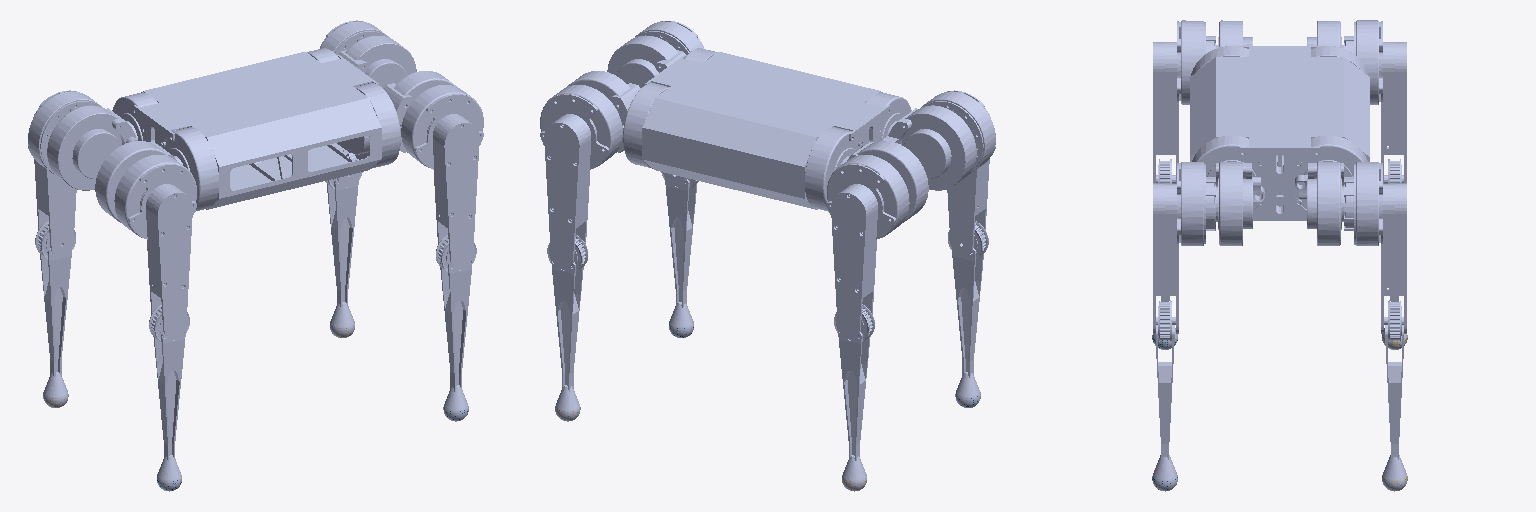
URDF robot description (Paws):
<?xml version="1.0" encoding="utf-8"?>
<!-- This URDF was automatically created by SolidWorks to URDF Exporter! Originally created by [author] ([email redacted]) 
     Commit Version: 1.6.0-4-g7f85cfe  Build Version: 1.6.7995.38578
     For more information, please see http://wiki.ros.org/sw_urdf_exporter -->
<robot name="Paws">
  <link name="base_link">
    <inertial>
      <origin
        xyz="0.0 0.0 0.0"
        rpy="0 0 0" />
      <mass
        value="8" />
      <inertia ixx="0.01801375" ixy="0" ixz="0.000424826" 
                iyy="0.052344195" iyz="0" izz="0.063719013"/>
    </inertial>
    <visual>
      <origin
        xyz="0 0 0"
        rpy="0 0 0" />
      <geometry>
        <mesh
          filename="package://PawsURDF/meshes/base_link.STL" />
      </geometry>
      <material
        name="">
        <color
          rgba="0.79216 0.81961 0.93333 1" />
      </material>
    </visual>
    <collision>
      <origin
        xyz="0 0 0"
        rpy="0 0 0" />
      <geometry>
        <mesh
          filename="package://PawsURDF/meshes/base_link.STL" />
      </geometry>
    </collision>
  </link>

<!--!!!!!!!!!!!!!!!!!! Front Right Leg !!!!!!!!!!!!!!!!!!!!!!!!!!-->
  <link name="FR_HIP">
    <inertial>
      <origin
        xyz="0.051126 0.0015613 -2.8843E-05"
        rpy="0 0 0" />
      <mass
        value="0.7" />
      <inertia ixx="0.000815672" ixy="-0.000001753" ixz="0.000000117"
                iyy="0.0004467" iyz="-0.00000015" izz="0.000526032"/>
    </inertial>
    <visual>
      <origin
        xyz="0 0 0"
        rpy="0 0 0" />
      <geometry>
        <mesh
          filename="package://PawsURDF/meshes/FR_HIP.STL" />
      </geometry>
      <material
        name="">
        <color
          rgba="0.79216 0.81961 0.93333 1" />
      </material>
    </visual>
    <collision>
      <origin
        xyz="0 0 0"
        rpy="0 0 0" />
      <geometry>
        <mesh
          filename="package://PawsURDF/meshes/FR_HIP.STL" />
      </geometry>
    </collision>
  </link>
  <joint name="FR_HIP_joint" type="continuous">
    <origin
      xyz="0.1337 -0.05599 0.005969"
      rpy="0 0 0" />
    <parent
      link="base_link" />
    <child
      link="FR_HIP" />
    <axis
      xyz="-1 0 0" />
  </joint>

  <link name="FR_KNEE">
    <inertial>
      <origin
        xyz="-4.9357E-05 -0.031336 -0.0089769"
        rpy="0 0 0" />
      <mass
        value="0.884" />
      <inertia ixx="0.00068084" ixy="-0.000257679" ixz="0.000003178"
                iyy="0.001766531" iyz="0.000003516" izz="0.001619267"/>
    </inertial>
    <visual>
      <origin
        xyz="0 0 0"
        rpy="0 0 0" />
      <geometry>
        <mesh
          filename="package://PawsURDF/meshes/FR_KNEE.STL" />
      </geometry>
      <material
        name="">
        <color
          rgba="0.79216 0.81961 0.93333 1" />
      </material>
    </visual>
    <collision>
      <origin
        xyz="0 0 0"
        rpy="0 0 0" />
      <geometry>
        <mesh
          filename="package://PawsURDF/meshes/FR_KNEE.STL" />
      </geometry>
    </collision>
  </link>
  <joint name="FR_KNEE_joint"
    type="continuous">
    <origin
      xyz="0.055 -0.017 0"
      rpy="0 0 0" />
    <parent
      link="FR_HIP" />
    <child
      link="FR_KNEE" />
    <axis
      xyz="0 -1 0" />
  </joint>

  <link name="FR_FEET">
    <inertial>
      <origin
        xyz="-3.6717E-07 1.5903E-08 -0.088089"
        rpy="0 0 0" />
      <mass
        value="0.063" />
      <inertia ixx="0.000719905" ixy="0" ixz="0.0" iyy="0.000726173" iyz="0" izz="0.000014957"/>
    </inertial>
    <visual>
      <origin
        xyz="0 0 0"
        rpy="0 0 0" />
      <geometry>
        <mesh
          filename="package://PawsURDF/meshes/FR_FEET.STL" />
      </geometry>
      <material
        name="">
        <color
          rgba="0.79216 0.81961 0.93333 1" />
      </material>
    </visual>
    <collision>
      <origin
        xyz="0 0 0"
        rpy="0 0 0" />
      <geometry>
        <mesh
          filename="package://PawsURDF/meshes/FR_FEET.STL" />
      </geometry>
    </collision>
  </link>
  <joint name="FR_FEET_joint"
    type="continuous">
    <origin
      xyz="0 -0.0605 -0.15"
      rpy="0 0 0" />
    <parent
      link="FR_KNEE" />
    <child
      link="FR_FEET" />
    <axis
      xyz="0 -1 0" />
  </joint>

  <link name="FR_TOE">
    <contact>
      <friction_anchor/>
      <stiffness value="30000.0"/>
      <damping value="1000.0"/>
      <spinning_friction value="0.3"/>
      <lateral_friction value="3.0"/>
    </contact>
    <visual>
      <origin rpy="0 0 0" xyz="0 0 0"/>
      <geometry>
        <sphere radius="0.015"/>
      </geometry>
      <material name="darkgray"/>
    </visual>
    <collision>
      <origin rpy="0 0 0" xyz="0 0 0"/>
      <geometry>
        <sphere radius="0.015"/>
      </geometry>
    </collision>
    <inertial>
      <mass value="0.15"/>
      <inertia ixx="0.000025" ixy="0" ixz="0" iyy="0.000025" iyz="0" izz="0.000025"/>
    </inertial>
  </link>
  <joint name="FR_TOE_joint" type="fixed">
    <parent link="FR_FEET"/>
    <child link="FR_TOE"/>
    <origin xyz="0 0 -0.202"/>
    <dynamics damping="0.0" friction="1"/>
  </joint>
<!--!!!!!!!!!!!!!!!!!! Front Left Leg !!!!!!!!!!!!!!!!!!!!!!!!!!-->
  <link name="FL_HIP">
    <inertial>
      <origin
        xyz="0.051126 -0.0015613 2.8843E-05"
        rpy="0 0 0" />
      <mass
        value="0.7" />
      <inertia ixx="0.000815672" ixy="-0.000001753" ixz="0.000000117"
                iyy="0.0004467" iyz="-0.00000015" izz="0.000526032"/>
    </inertial>
    <visual>
      <origin
        xyz="0 0 0"
        rpy="0 0 0" />
      <geometry>
        <mesh
          filename="package://PawsURDF/meshes/FL_HIP.STL" />
      </geometry>
      <material
        name="">
        <color
          rgba="0.79216 0.81961 0.93333 1" />
      </material>
    </visual>
    <collision>
      <origin
        xyz="0 0 0"
        rpy="0 0 0" />
      <geometry>
        <mesh
          filename="package://PawsURDF/meshes/FL_HIP.STL" />
      </geometry>
    </collision>
  </link>
  <joint name="FL_HIP_joint"
    type="continuous">
    <origin
      xyz="0.1337 0.05601 0.005969"
      rpy="0 0 0" />
    <parent
      link="base_link" />
    <child
      link="FL_HIP" />
    <axis
      xyz="-1 0 0" />
  </joint>

  <link name="FL_KNEE">
    <inertial>
      <origin
        xyz="4.9357E-05 0.031336 -0.0089769"
        rpy="0 0 0" />
      <mass
        value="0.884" />
      <inertia ixx="0.00068084" ixy="-0.000257679" ixz="0.000003178"
                iyy="0.001766531" iyz="0.000003516" izz="0.001619267"/>
    </inertial>
    <visual>
      <origin
        xyz="0 0 0"
        rpy="0 0 0" />
      <geometry>
        <mesh
          filename="package://PawsURDF/meshes/FL_KNEE.STL" />
      </geometry>
      <material
        name="">
        <color
          rgba="0.79216 0.81961 0.93333 1" />
      </material>
    </visual>
    <collision>
      <origin
        xyz="0 0 0"
        rpy="0 0 0" />
      <geometry>
        <mesh
          filename="package://PawsURDF/meshes/FL_KNEE.STL" />
      </geometry>
    </collision>
  </link>
  <joint name="FL_KNEE_joint"
    type="continuous">
    <origin
      xyz="0.055 0.017 0"
      rpy="0 0 0" />
    <parent
      link="FL_HIP" />
    <child
      link="FL_KNEE" />
    <axis
      xyz="0 1 0" />
  </joint>

  <link name="FL_FEET">
    <inertial>
      <origin
        xyz="-3.6717E-07 1.5904E-08 -0.088089"
        rpy="0 0 0" />
      <mass
        value="0.063" />
      <inertia ixx="0.000719905" ixy="0" ixz="0.0" iyy="0.000726173" iyz="0" izz="0.000014957"/>
    </inertial>
    <visual>
      <origin
        xyz="0 0 0"
        rpy="0 0 0" />
      <geometry>
        <mesh
          filename="package://PawsURDF/meshes/FL_FEET.STL" />
      </geometry>
      <material
        name="">
        <color
          rgba="0.79216 0.81961 0.93333 1" />
      </material>
    </visual>
    <collision>
      <origin
        xyz="0 0 0"
        rpy="0 0 0" />
      <geometry>
        <mesh
          filename="package://PawsURDF/meshes/FL_FEET.STL" />
      </geometry>
    </collision>
  </link>
  <joint name="FL_FEET_joint"
    type="continuous">
    <origin
      xyz="0 0.0605 -0.15"
      rpy="0 0 0" />
    <parent
      link="FL_KNEE" />
    <child
      link="FL_FEET" />
    <axis
      xyz="0 -1 0" />
  </joint>

  <link name="FL_TOE">
    <contact>
      <friction_anchor/>
      <stiffness value="30000.0"/>
      <damping value="1000.0"/>
      <spinning_friction value="0.3"/>
      <lateral_friction value="3.0"/>
    </contact>
    <visual>
      <origin rpy="0 0 0" xyz="0 0 0"/>
      <geometry>
        <sphere radius="0.015"/>
      </geometry>
      <material name="darkgray"/>
    </visual>
    <collision>
      <origin rpy="0 0 0" xyz="0 0 0"/>
      <geometry>
        <sphere radius="0.015"/>
      </geometry>
    </collision>
    <inertial>
      <mass value="0.15"/>
      <inertia ixx="0.000025" ixy="0" ixz="0" iyy="0.000025" iyz="0" izz="0.000025"/>
    </inertial>
  </link>
  <joint name="FL_TOE_joint" type="fixed">
    <parent link="FL_FEET"/>
    <child link="FL_TOE"/>
    <origin xyz="0 0 -0.202"/>
    <dynamics damping="0.0" friction="1"/>
  </joint>

<!--!!!!!!!!!!!!!!!!!! Rear Right Leg !!!!!!!!!!!!!!!!!!!!!!!!!!-->
  <link name="RR_HIP">
    <inertial>
      <origin
        xyz="-0.051126 0.0015613 2.8843E-05"
        rpy="0 0 0" />
      <mass
        value="0.7" />
      <inertia ixx="0.000815672" ixy="-0.000001753" ixz="0.000000117"
                iyy="0.0004467" iyz="-0.00000015" izz="0.000526032"/>
    </inertial>
    <visual>
      <origin
        xyz="0 0 0"
        rpy="0 0 0" />
      <geometry>
        <mesh
          filename="package://PawsURDF/meshes/RR_HIP.STL" />
      </geometry>
      <material
        name="">
        <color
          rgba="0.79216 0.81961 0.93333 1" />
      </material>
    </visual>
    <collision>
      <origin
        xyz="0 0 0"
        rpy="0 0 0" />
      <geometry>
        <mesh
          filename="package://PawsURDF/meshes/RR_HIP.STL" />
      </geometry>
    </collision>
  </link>
  <joint name="RR_HIP_joint"
    type="continuous">
    <origin
      xyz="-0.1453 -0.05599 0.005969"
      rpy="0 0 0" />
    <parent
      link="base_link" />
    <child
      link="RR_HIP" />
    <axis
      xyz="1 0 0" />
  </joint>

  <link name="RR_KNEE">
    <inertial>
      <origin
        xyz="-4.9357E-05 -0.031336 -0.0089769"
        rpy="0 0 0" />
      <mass
        value="0.884" />
      <inertia ixx="0.00068084" ixy="-0.000257679" ixz="0.000003178"
                iyy="0.001766531" iyz="0.000003516" izz="0.001619267"/>
    </inertial>
    <visual>
      <origin
        xyz="0 0 0"
        rpy="0 0 0" />
      <geometry>
        <mesh
          filename="package://PawsURDF/meshes/RR_KNEE.STL" />
      </geometry>
      <material
        name="">
        <color
          rgba="0.79216 0.81961 0.93333 1" />
      </material>
    </visual>
    <collision>
      <origin
        xyz="0 0 0"
        rpy="0 0 0" />
      <geometry>
        <mesh
          filename="package://PawsURDF/meshes/RR_KNEE.STL" />
      </geometry>
    </collision>
  </link>
  <joint name="RR_KNEE_joint"
    type="continuous">
    <origin
      xyz="-0.055 -0.017 0"
      rpy="0 0 0" />
    <parent
      link="RR_HIP" />
    <child
      link="RR_KNEE" />
    <axis
      xyz="0 -1 0" />
  </joint>

  <link name="RR_FEET">
    <inertial>
      <origin
        xyz="-3.6717E-07 1.5901E-08 -0.088089"
        rpy="0 0 0" />
      <mass
        value="0.063" />
      <inertia ixx="0.000719905" ixy="0" ixz="0.0" iyy="0.000726173" iyz="0" izz="0.000014957"/>
    </inertial>
    <visual>
      <origin
        xyz="0 0 0"
        rpy="0 0 0" />
      <geometry>
        <mesh
          filename="package://PawsURDF/meshes/RR_FEET.STL" />
      </geometry>
      <material
        name="">
        <color
          rgba="0.79216 0.81961 0.93333 1" />
      </material>
    </visual>
    <collision>
      <origin
        xyz="0 0 0"
        rpy="0 0 0" />
      <geometry>
        <mesh
          filename="package://PawsURDF/meshes/RR_FEET.STL" />
      </geometry>
    </collision>
  </link>
  <joint name="RR_FEET_joint"
    type="continuous">
    <origin
      xyz="0 -0.0605 -0.15"
      rpy="0 0 0" />
    <parent
      link="RR_KNEE" />
    <child
      link="RR_FEET" />
    <axis
      xyz="0 -1 0" />
  </joint>

  <link name="RR_TOE">
    <contact>
      <friction_anchor/>
      <stiffness value="30000.0"/>
      <damping value="1000.0"/>
      <spinning_friction value="0.3"/>
      <lateral_friction value="3.0"/>
    </contact>
    <visual>
      <origin rpy="0 0 0" xyz="0 0 0"/>
      <geometry>
        <sphere radius="0.015"/>
      </geometry>
      <material name="darkgray"/>
    </visual>
    <collision>
      <origin rpy="0 0 0" xyz="0 0 0"/>
      <geometry>
        <sphere radius="0.015"/>
      </geometry>
    </collision>
    <inertial>
      <mass value="0.15"/>
      <inertia ixx="0.000025" ixy="0" ixz="0" iyy="0.000025" iyz="0" izz="0.000025"/>
    </inertial>
  </link>
  <joint name="RR_TOE_joint" type="fixed">
    <parent link="RR_FEET"/>
    <child link="RR_TOE"/>
    <origin xyz="0 0 -0.202"/>
    <dynamics damping="0.0" friction="1"/>
  </joint>

<!--!!!!!!!!!!!!!!!!!! Rear Left Leg !!!!!!!!!!!!!!!!!!!!!!!!!!-->
  <link name="RL_HIP">
    <inertial>
      <origin
        xyz="-0.051126 -0.0015613 -2.8843E-05"
        rpy="0 0 0" />
      <mass
        value="0.7" />
      <inertia ixx="0.000815672" ixy="-0.000001753" ixz="0.000000117"
                iyy="0.0004467" iyz="-0.00000015" izz="0.000526032"/>
    </inertial>
    <visual>
      <origin
        xyz="0 0 0"
        rpy="0 0 0" />
      <geometry>
        <mesh
          filename="package://PawsURDF/meshes/RL_HIP.STL" />
      </geometry>
      <material
        name="">
        <color
          rgba="0.79216 0.81961 0.93333 1" />
      </material>
    </visual>
    <collision>
      <origin
        xyz="0 0 0"
        rpy="0 0 0" />
      <geometry>
        <mesh
          filename="package://PawsURDF/meshes/RL_HIP.STL" />
      </geometry>
    </collision>
  </link>
  <joint name="RL_HIP_joint"
    type="continuous">
    <origin
      xyz="-0.1453 0.05601 0.005969"
      rpy="0 0 0" />
    <parent
      link="base_link" />
    <child
      link="RL_HIP" />
    <axis
      xyz="1 0 0" />
  </joint>

  <link name="RL_KNEE">
    <inertial>
      <origin
        xyz="4.9357E-05 0.031336 -0.0089769"
        rpy="0 0 0" />
      <mass
        value="0.884" />
      <inertia ixx="0.00068084" ixy="-0.000257679" ixz="0.000003178"
                iyy="0.001766531" iyz="0.000003516" izz="0.001619267"/>
    </inertial>
    <visual>
      <origin
        xyz="0 0 0"
        rpy="0 0 0" />
      <geometry>
        <mesh
          filename="package://PawsURDF/meshes/RL_KNEE.STL" />
      </geometry>
      <material
        name="">
        <color
          rgba="0.79216 0.81961 0.93333 1" />
      </material>
    </visual>
    <collision>
      <origin
        xyz="0 0 0"
        rpy="0 0 0" />
      <geometry>
        <mesh
          filename="package://PawsURDF/meshes/RL_KNEE.STL" />
      </geometry>
    </collision>
  </link>
  <joint name="RL_KNEE_joint"
    type="continuous">
    <origin
      xyz="-0.055 0.017 0"
      rpy="0 0 0" />
    <parent
      link="RL_HIP" />
    <child
      link="RL_KNEE" />
    <axis
      xyz="0 1 0" />
  </joint>

  <link name="RL_FEET">
    <inertial>
      <origin
        xyz="-3.6717E-07 1.5904E-08 -0.088089"
        rpy="0 0 0" />
      <mass
        value="0.063" />
      <inertia ixx="0.000719905" ixy="0" ixz="0.0" iyy="0.000726173" iyz="0" izz="0.000014957"/>
    </inertial>
    <visual>
      <origin
        xyz="0 0 0"
        rpy="0 0 0" />
      <geometry>
        <mesh
          filename="package://PawsURDF/meshes/RL_FEET.STL" />
      </geometry>
      <material
        name="">
        <color
          rgba="0.79216 0.81961 0.93333 1" />
      </material>
    </visual>
    <collision>
      <origin
        xyz="0 0 0"
        rpy="0 0 0" />
      <geometry>
        <mesh
          filename="package://PawsURDF/meshes/RL_FEET.STL" />
      </geometry>
    </collision>
  </link>
  <joint name="RL_FEET_joint"
    type="continuous">
    <origin
      xyz="0 0.0605 -0.15"
      rpy="0 0 0" />
    <parent
      link="RL_KNEE" />
    <child
      link="RL_FEET" />
    <axis
      xyz="0 -1 0" />
  </joint>

  <link name="RL_TOE">
    <contact>
      <friction_anchor/>
      <stiffness value="30000.0"/>
      <damping value="1000.0"/>
      <spinning_friction value="0.3"/>
      <lateral_friction value="3.0"/>
    </contact>
    <visual>
      <origin rpy="0 0 0" xyz="0 0 0"/>
      <geometry>
        <sphere radius="0.015"/>
      </geometry>
      <material name="darkgray"/>
    </visual>
    <collision>
      <origin rpy="0 0 0" xyz="0 0 0"/>
      <geometry>
        <sphere radius="0.015"/>
      </geometry>
    </collision>
    <inertial>
      <mass value="0.15"/>
      <inertia ixx="0.000025" ixy="0" ixz="0" iyy="0.000025" iyz="0" izz="0.000025"/>
    </inertial>
  </link>
  <joint name="RL_TOE_joint" type="fixed">
    <parent link="RL_FEET"/>
    <child link="RL_TOE"/>
    <origin xyz="0 0 -0.202"/>
    <dynamics damping="0.0" friction="1"/>
  </joint>
</robot>

--- Facts derived from the render (not from the file) ---
3 views of the same robot in one strip: view 1: azimuth 30°, elevation 25°; view 2: azimuth 150°, elevation 25°; view 3: azimuth 270°, elevation 25° (orthographic).
Robot: Paws — 17 links, 16 joints (12 continuous, 4 fixed); root link base_link; default pose: every joint at zero.
Visible links, largest first — view 1: base_link, FR_KNEE, RR_KNEE, RL_HIP, RL_KNEE, FR_FEET, RL_FEET, RR_FEET, FL_FEET, FL_HIP, RR_HIP, FR_HIP (+1 smaller); view 2: base_link, FL_KNEE, RL_KNEE, RR_HIP, RR_KNEE, FL_FEET, RR_FEET, RL_FEET, FR_FEET, FR_HIP, RL_HIP, FL_HIP (+1 smaller); view 3: base_link, FL_KNEE, FR_KNEE, RL_KNEE, RR_KNEE, FR_HIP, FL_HIP, FR_FEET, FL_FEET, RR_HIP, RL_HIP, RR_FEET (+1 smaller).
Link boxes in pixels (x1,y1,x2,y2): base_link: [112, 48, 400, 211]; FR_KNEE: [401, 85, 483, 268]; RR_KNEE: [114, 155, 196, 338]; RL_HIP: [47, 105, 137, 190]; RL_KNEE: [28, 90, 102, 256]; FR_FEET: [436, 235, 476, 421]; RL_FEET: [35, 221, 75, 407]; RR_FEET: [149, 304, 189, 491]; FL_FEET: [325, 172, 362, 337]; FL_HIP: [338, 36, 416, 87]; RR_HIP: [95, 141, 181, 222]; FR_HIP: [383, 71, 456, 152]; base_link: [623, 48, 911, 211]; FL_KNEE: [540, 85, 622, 268]; RL_KNEE: [827, 155, 909, 338]; RR_HIP: [883, 105, 976, 190]; RR_KNEE: [921, 90, 995, 256]; FL_FEET: [547, 235, 587, 421]; RR_FEET: [948, 221, 988, 407]; RL_FEET: [834, 304, 874, 491]; FR_FEET: [661, 172, 698, 337]; FR_HIP: [607, 35, 685, 87]; RL_HIP: [842, 141, 928, 222]; FL_HIP: [567, 71, 640, 152]; base_link: [1190, 46, 1369, 220]; FL_KNEE: [1343, 162, 1406, 333]; FR_KNEE: [1153, 162, 1216, 333]; RL_KNEE: [1344, 20, 1406, 183]; RR_KNEE: [1153, 20, 1215, 183]; FR_HIP: [1216, 162, 1264, 245]; FL_HIP: [1295, 162, 1343, 245]; FR_FEET: [1152, 300, 1177, 491]; FL_FEET: [1382, 300, 1407, 491]; RR_HIP: [1216, 20, 1252, 48]; RL_HIP: [1307, 21, 1343, 48]; RR_FEET: [1152, 159, 1177, 349].
Bounding box of the posed robot: 0.487 × 0.297 × 0.416 m (x, y, z).
13 mesh visuals loaded from 13 distinct referenced files (13 binary STL).
